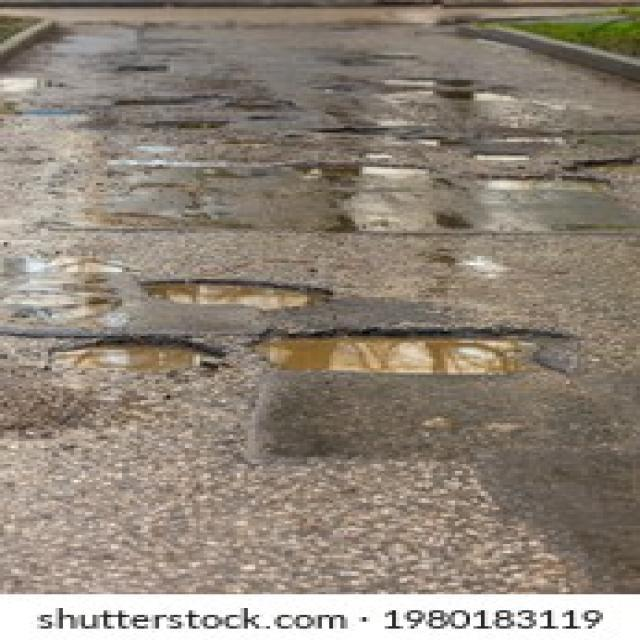Pothole: (245, 324, 570, 378), (36, 336, 230, 382), (133, 276, 337, 311), (466, 172, 618, 194), (288, 158, 433, 178), (569, 153, 640, 171), (396, 132, 459, 148), (318, 124, 403, 134), (466, 150, 533, 162)
